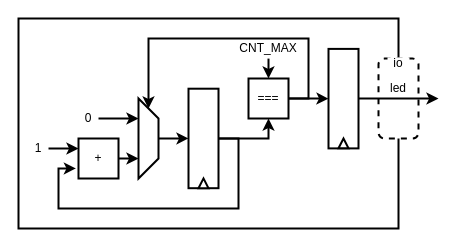
The diagram is 464 pixels wide and 246 high, and some of its shapes have lost their labels. Each missing label, with the box of its shape:
blkReg: (327, 47, 359, 149)
cntReg: (187, 87, 219, 189)
